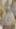cylinder: (1, 1, 16, 29)
